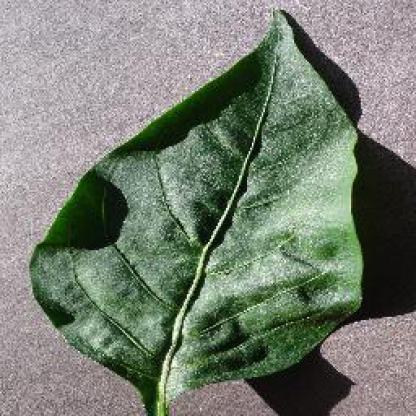bad leaf: (14, 12, 378, 410)
